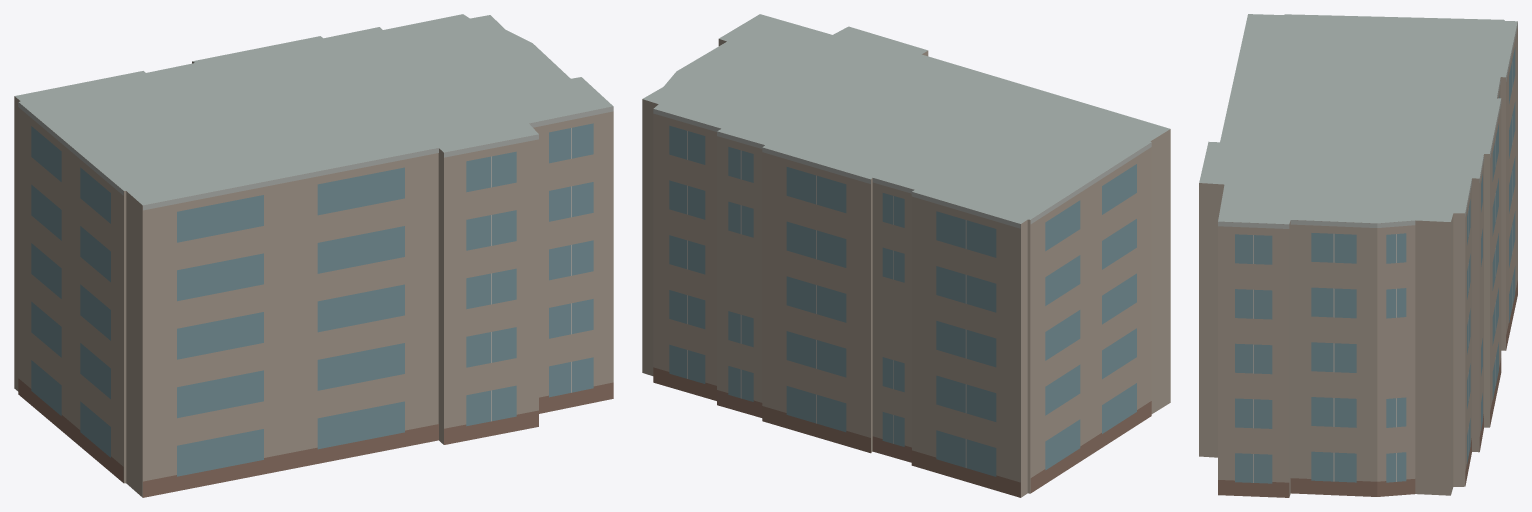
Rendered from survey-upis-32789946.glb.
3 views of the same model, side by side, from view 1: azimuth 30°, elevation 25°; view 2: azimuth 150°, elevation 25°; view 3: azimuth 270°, elevation 25° (orthographic). The views are drawn at different scales.
Visible parts, largest first — view 1: survey-upis-32789946.tmp; view 2: survey-upis-32789946.tmp; view 3: survey-upis-32789946.tmp.
Boxes of the visible parts, x1,y1,x2,y2 form: survey-upis-32789946.tmp: [14, 14, 613, 497]; survey-upis-32789946.tmp: [642, 14, 1170, 497]; survey-upis-32789946.tmp: [1199, 14, 1517, 497].
Size of the model in its own units: 23.26 by 14.1 by 14.9.
